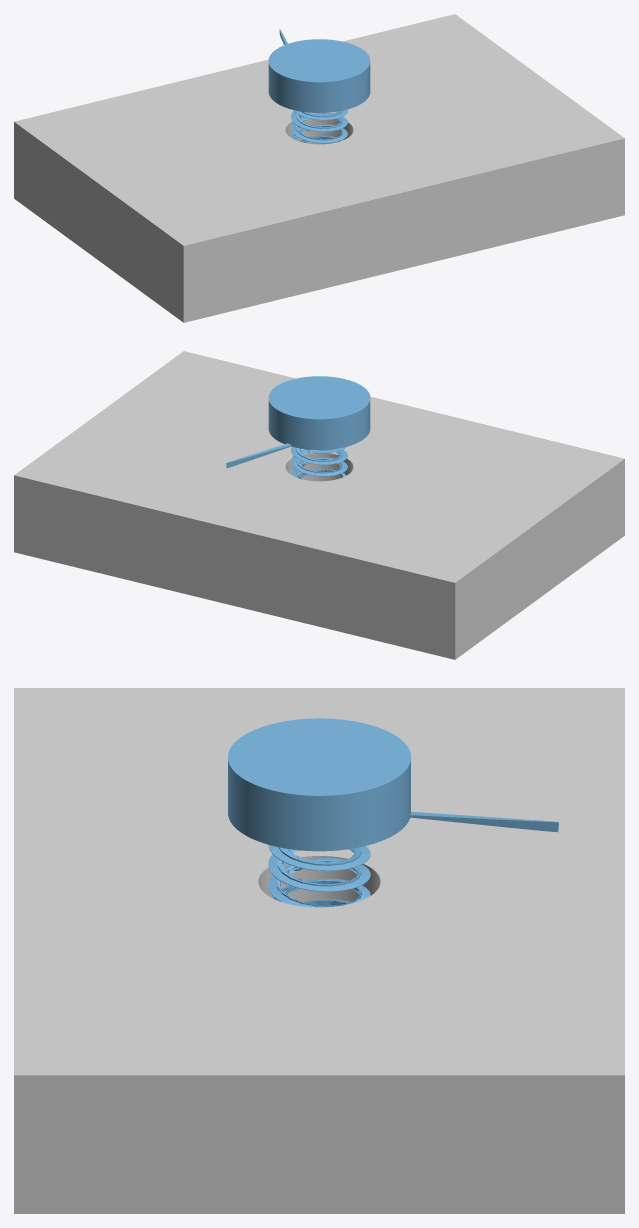
Rendered from delikli_plaka_ve_baslikli_yivli_vida.gltf.
3 renders of one model, top to bottom at view 1: azimuth 30°, elevation 25°; view 2: azimuth 150°, elevation 25°; view 3: azimuth 270°, elevation 25°, orthographic. The views are drawn at different scales.
Parts seen in each view (by area): view 1: plaka_part, vida_part; view 2: plaka_part, vida_part; view 3: plaka_part, vida_part.
Boxes of the visible parts, bbox=[...] form: plaka_part: bbox=[14, 14, 624, 322]; vida_part: bbox=[268, 29, 370, 143]; plaka_part: bbox=[14, 351, 624, 659]; vida_part: bbox=[226, 376, 370, 481]; plaka_part: bbox=[14, 688, 624, 1213]; vida_part: bbox=[228, 718, 558, 907].
Bounding box in the file's own units: 60 × 19 × 40.
